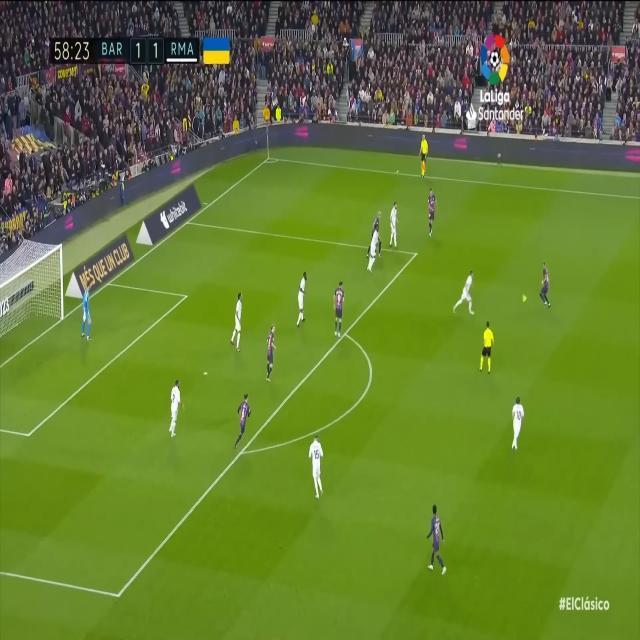ball: (511, 272, 530, 332)
goalkeeper: (78, 267, 114, 350)
player: (223, 380, 265, 490), (296, 415, 334, 522), (413, 482, 447, 593), (503, 387, 538, 474), (165, 362, 192, 465), (367, 188, 392, 297), (327, 265, 356, 356), (228, 279, 253, 374), (421, 164, 447, 253), (294, 263, 319, 348), (265, 314, 287, 399), (456, 251, 481, 324), (538, 241, 554, 334)
referee: (477, 310, 500, 385), (406, 126, 433, 176)
